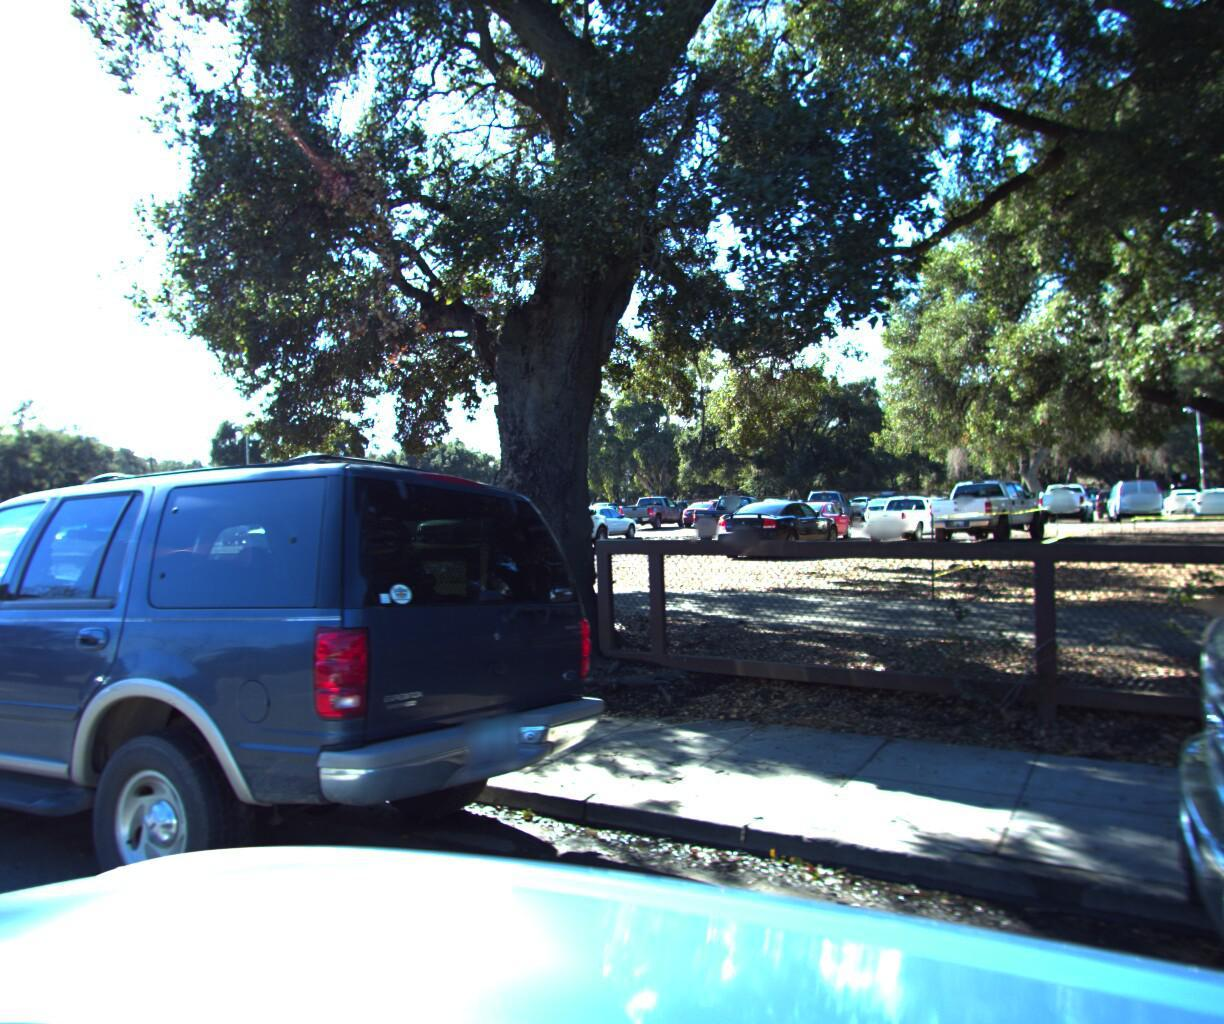car: (0, 421, 641, 1024)
